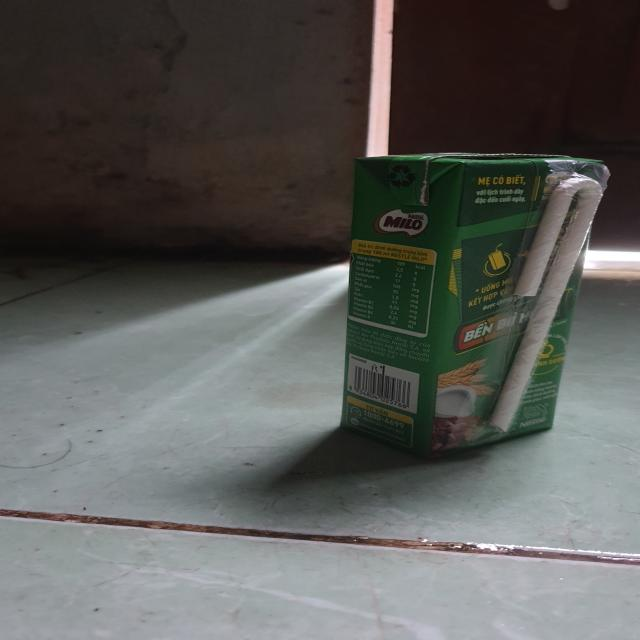Milo: (337, 148, 619, 466)
